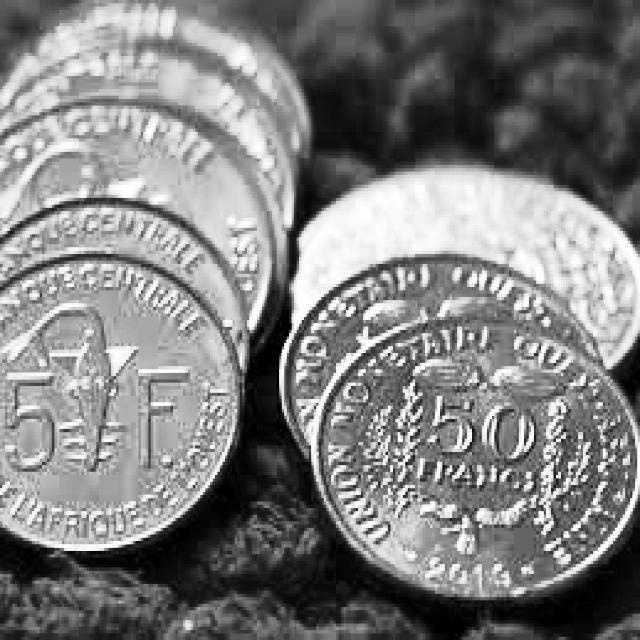derem: (0, 3, 313, 337), (2, 257, 243, 551), (0, 199, 247, 447)
fukk: (315, 314, 637, 596), (294, 172, 640, 369), (280, 259, 550, 457)
